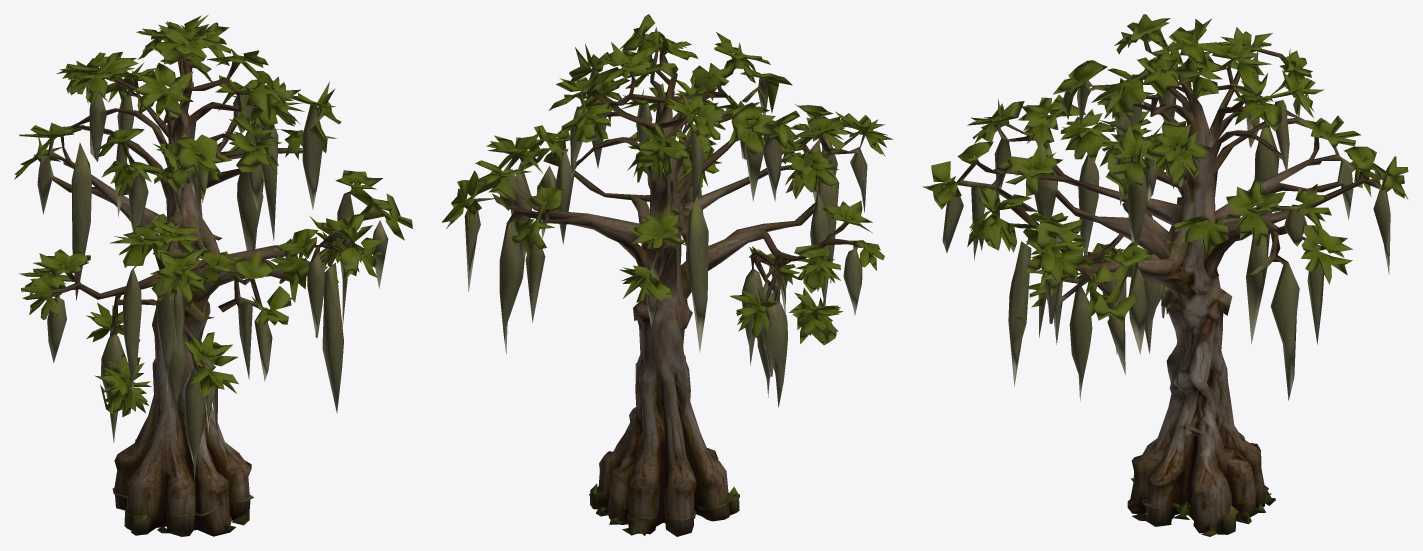
The model's file is cypress_tree.glb.
The picture shows the model from 3 angles, left to right: view 1: azimuth 30°, elevation 25°; view 2: azimuth 150°, elevation 25°; view 3: azimuth 270°, elevation 25°; orthographic projection. The views are drawn at different scales.
Visible parts, largest first — view 1: tripo_node_604de056-96e7-4cab-8774-3411d781a1ce; view 2: tripo_node_604de056-96e7-4cab-8774-3411d781a1ce; view 3: tripo_node_604de056-96e7-4cab-8774-3411d781a1ce.
Part boxes in pixels (x1,y1,x2,y2): tripo_node_604de056-96e7-4cab-8774-3411d781a1ce: (14, 14, 412, 536); tripo_node_604de056-96e7-4cab-8774-3411d781a1ce: (442, 14, 893, 536); tripo_node_604de056-96e7-4cab-8774-3411d781a1ce: (922, 14, 1408, 536).
Size of the model in its own units: 0.7925 by 1 by 0.9088.
1 material, 1 textured.
